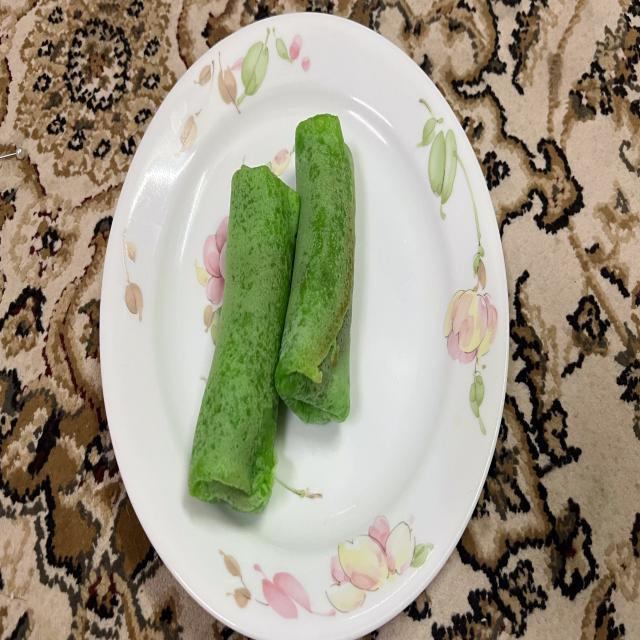Kuih-Ketayap: (189, 164, 300, 513), (275, 113, 355, 424)
